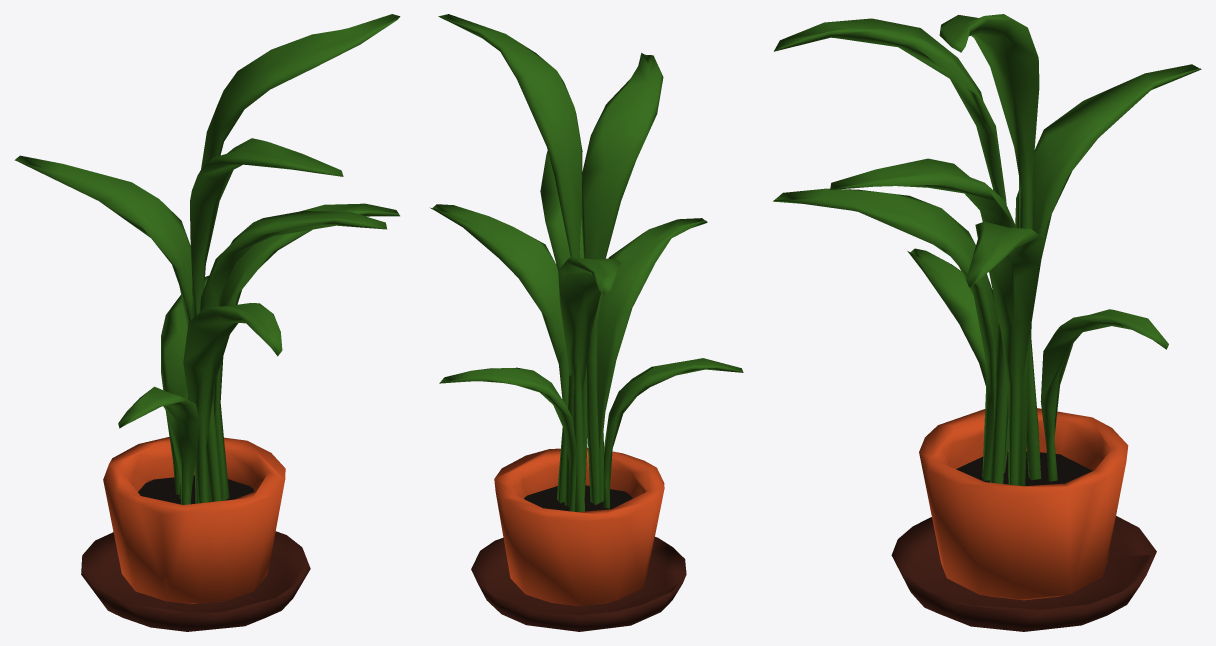
The model's file is tall_flower.obj.
The picture shows the model from 3 angles, left to right: view 1: azimuth 30°, elevation 25°; view 2: azimuth 150°, elevation 25°; view 3: azimuth 270°, elevation 25°; orthographic projection. The views are drawn at different scales.
Parts seen in each view (by area): view 1: tall_flower; view 2: tall_flower; view 3: tall_flower.
Part boxes in pixels (x1=…): tall_flower: x1=14, y1=14, x2=400, y2=631; tall_flower: x1=430, y1=14, x2=743, y2=631; tall_flower: x1=773, y1=14, x2=1201, y2=631.
Bounding box in the file's own units: 1.05 × 1.83 × 1.11.
